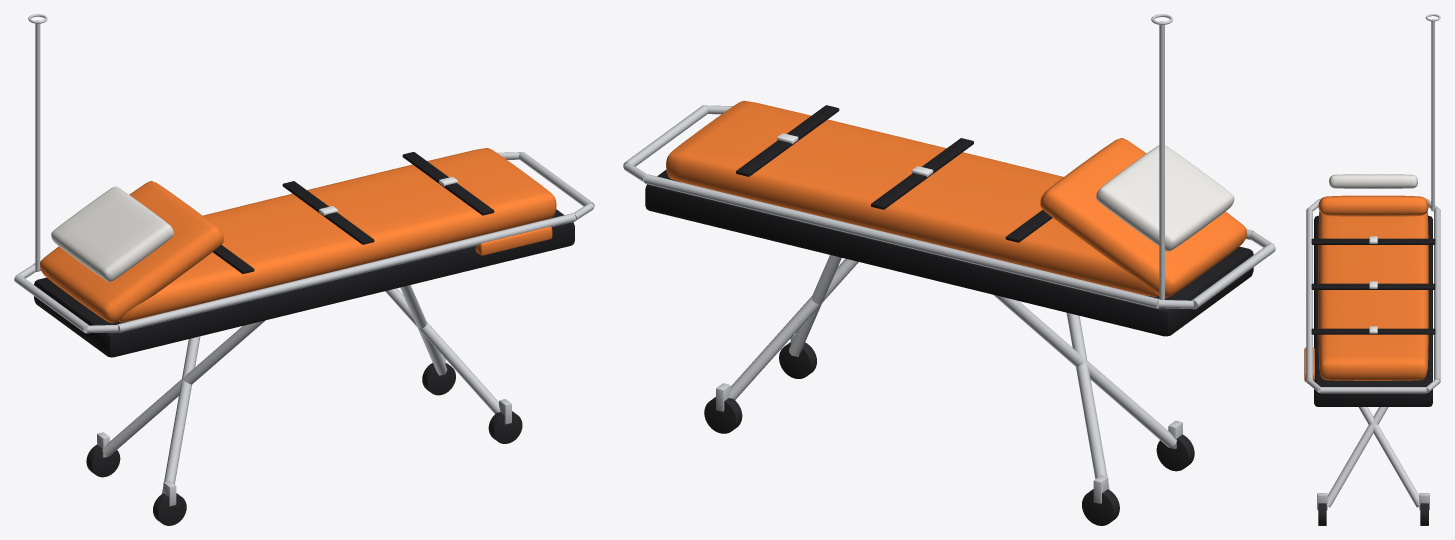
File: barella-118.glb
3 renders of one model, left to right at view 1: azimuth 30°, elevation 25°; view 2: azimuth 150°, elevation 25°; view 3: azimuth 270°, elevation 25°, orthographic. The views are drawn at different scales.
Visible parts, largest first — view 1: barella-118; view 2: barella-118; view 3: barella-118.
Boxes of the visible parts, left/top/right/bottom form: barella-118: left=14, top=14, right=594, bottom=525; barella-118: left=623, top=14, right=1275, bottom=525; barella-118: left=1304, top=14, right=1440, bottom=525.
Size of the model in its own units: 2.13 by 1.87 by 0.6402.
